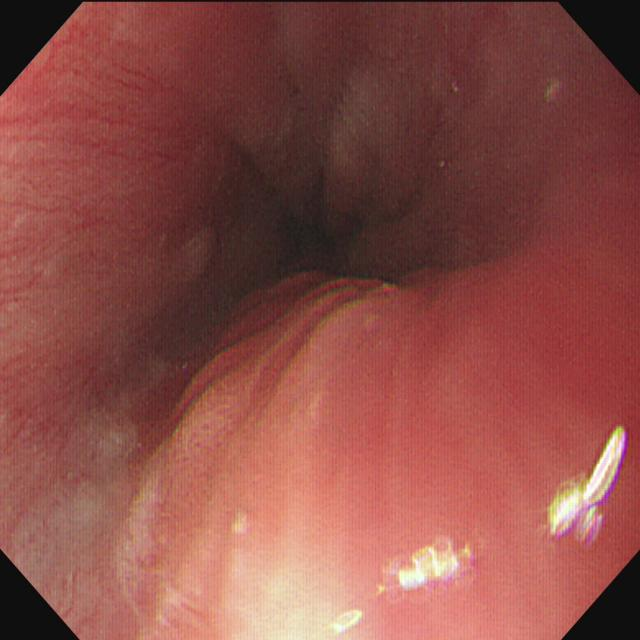E: (176, 115, 422, 365)
U: (548, 425, 630, 547), (377, 536, 483, 602), (330, 609, 367, 633)
